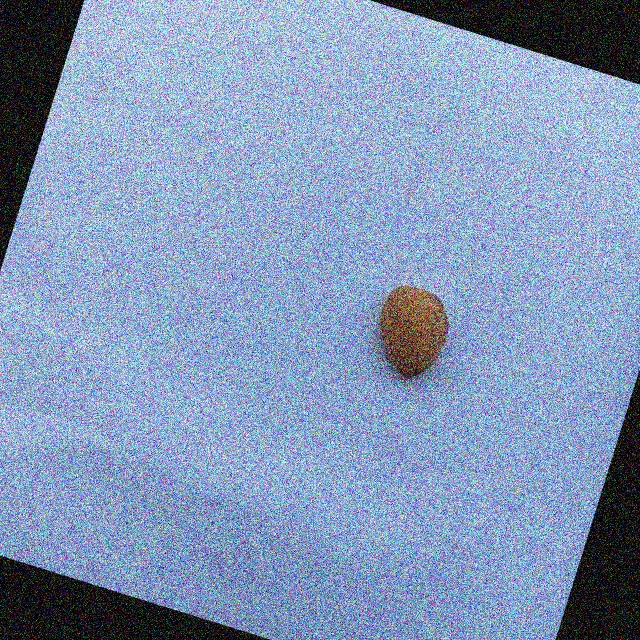grade2: (357, 275, 462, 390)
